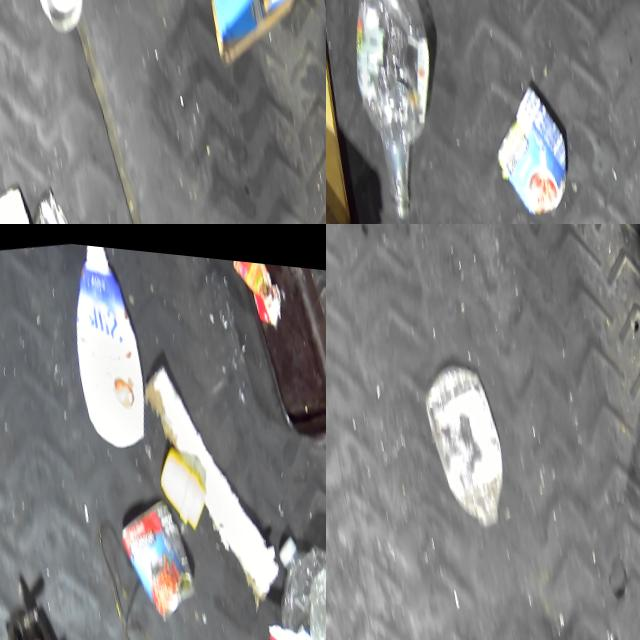can: (114, 484, 203, 622), (23, 174, 85, 224), (27, 0, 92, 31)
plastic_bottle: (337, 0, 464, 224), (416, 346, 518, 536), (265, 508, 326, 640)
